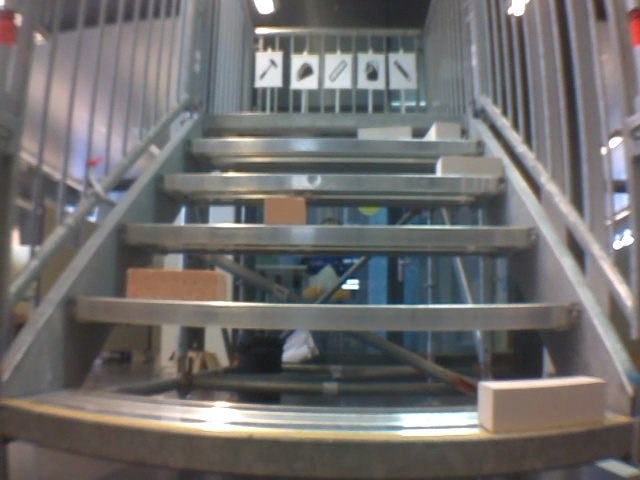brick: (479, 378, 605, 433), (128, 270, 227, 299), (436, 155, 502, 176), (265, 197, 305, 224), (359, 126, 410, 139), (425, 123, 459, 139)
bucket: (362, 56, 383, 82)
edge: (2, 403, 634, 476), (67, 299, 586, 328), (119, 223, 538, 246), (155, 174, 512, 192), (185, 138, 486, 155), (204, 113, 462, 127)
hammer: (257, 57, 281, 84)
pencil: (393, 58, 413, 83)
ruler: (327, 59, 349, 83)
stairs: (1, 2, 639, 479)
steps: (1, 110, 638, 480)
taco: (294, 59, 314, 84)
